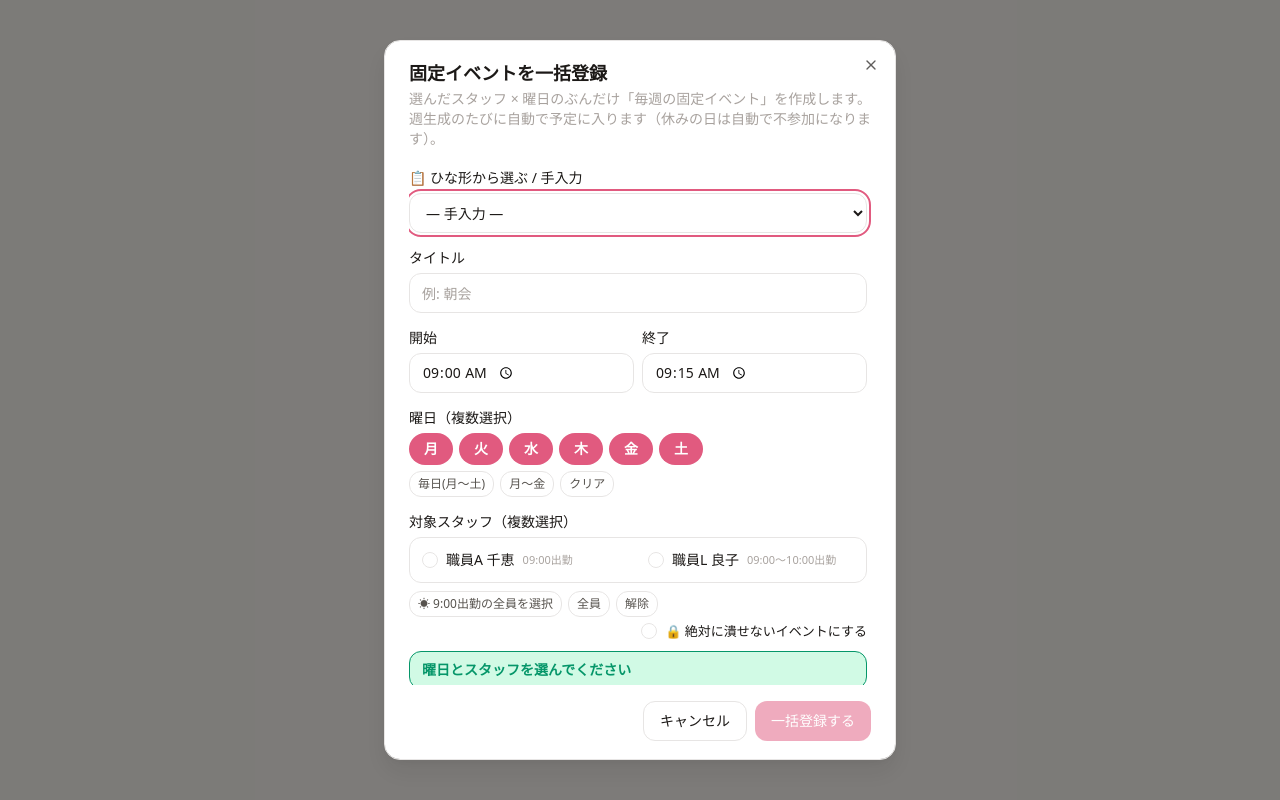
Test case: BulkEventDefaultsDialog — プレビュー › 2. 「月〜金」ショートカットでプレビューの曜日数が変わる
Click the button with test id "bulk-select-all" at (589, 604), box x1=568 y1=591 x2=610 y2=617
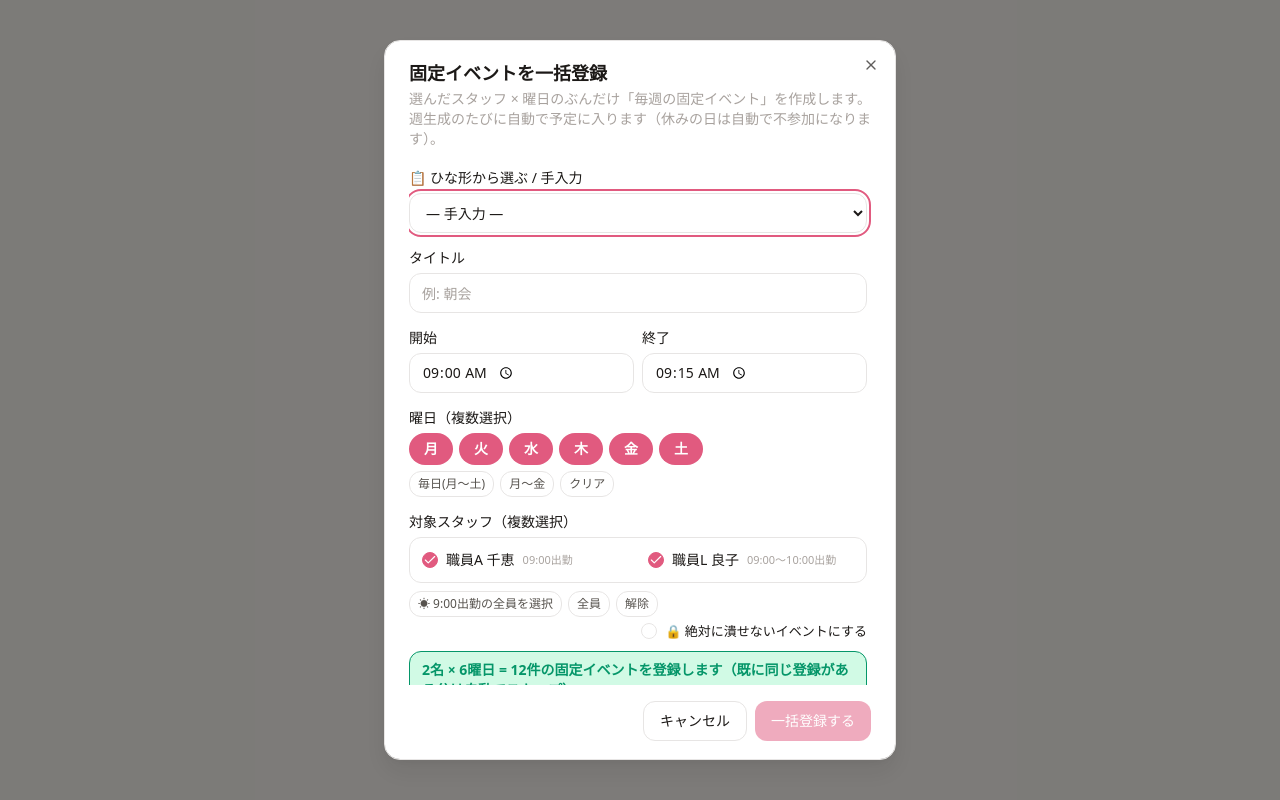
Click the button with test id "bulk-shortcut-weekdays" at (527, 484), box x1=500 y1=471 x2=554 y2=497
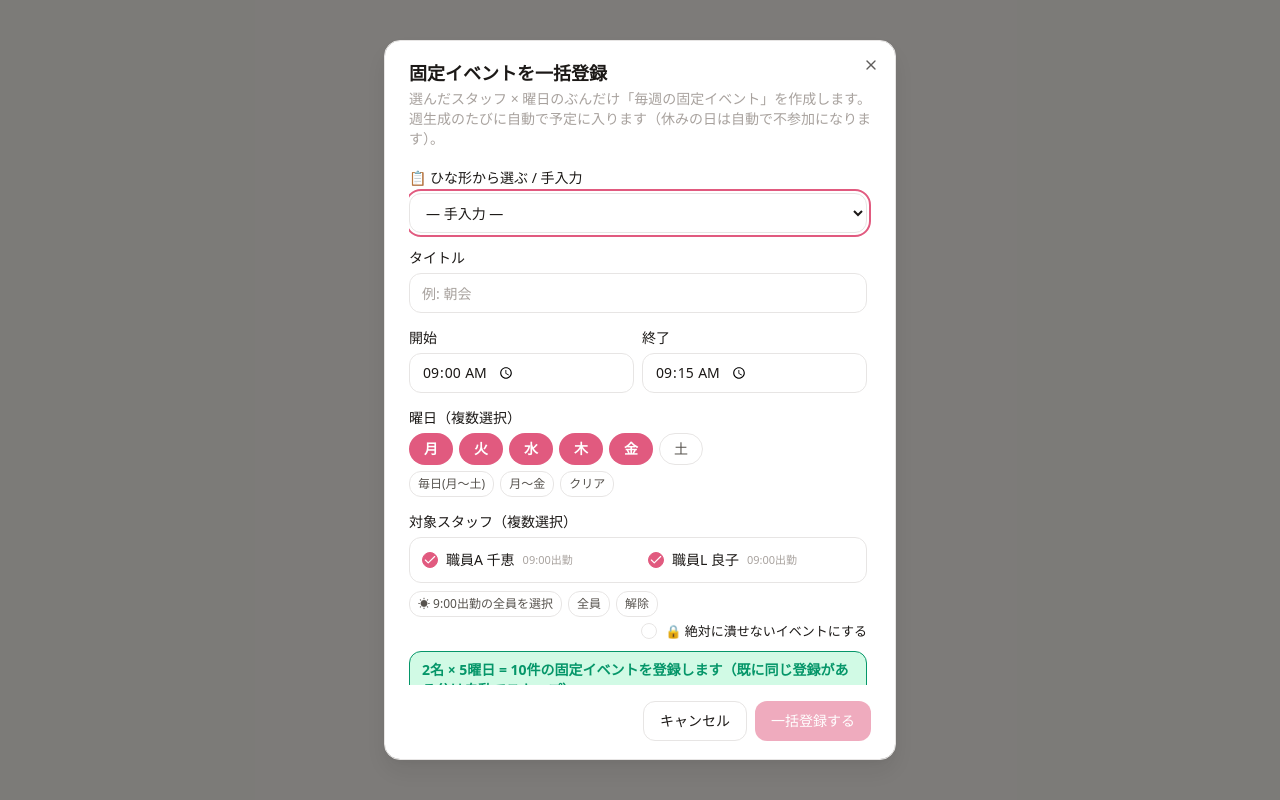
Expected: the text with test id "bulk-preview" shows "2名 × 5曜日 = 10件", x1=422 y1=660 x2=849 y2=685
